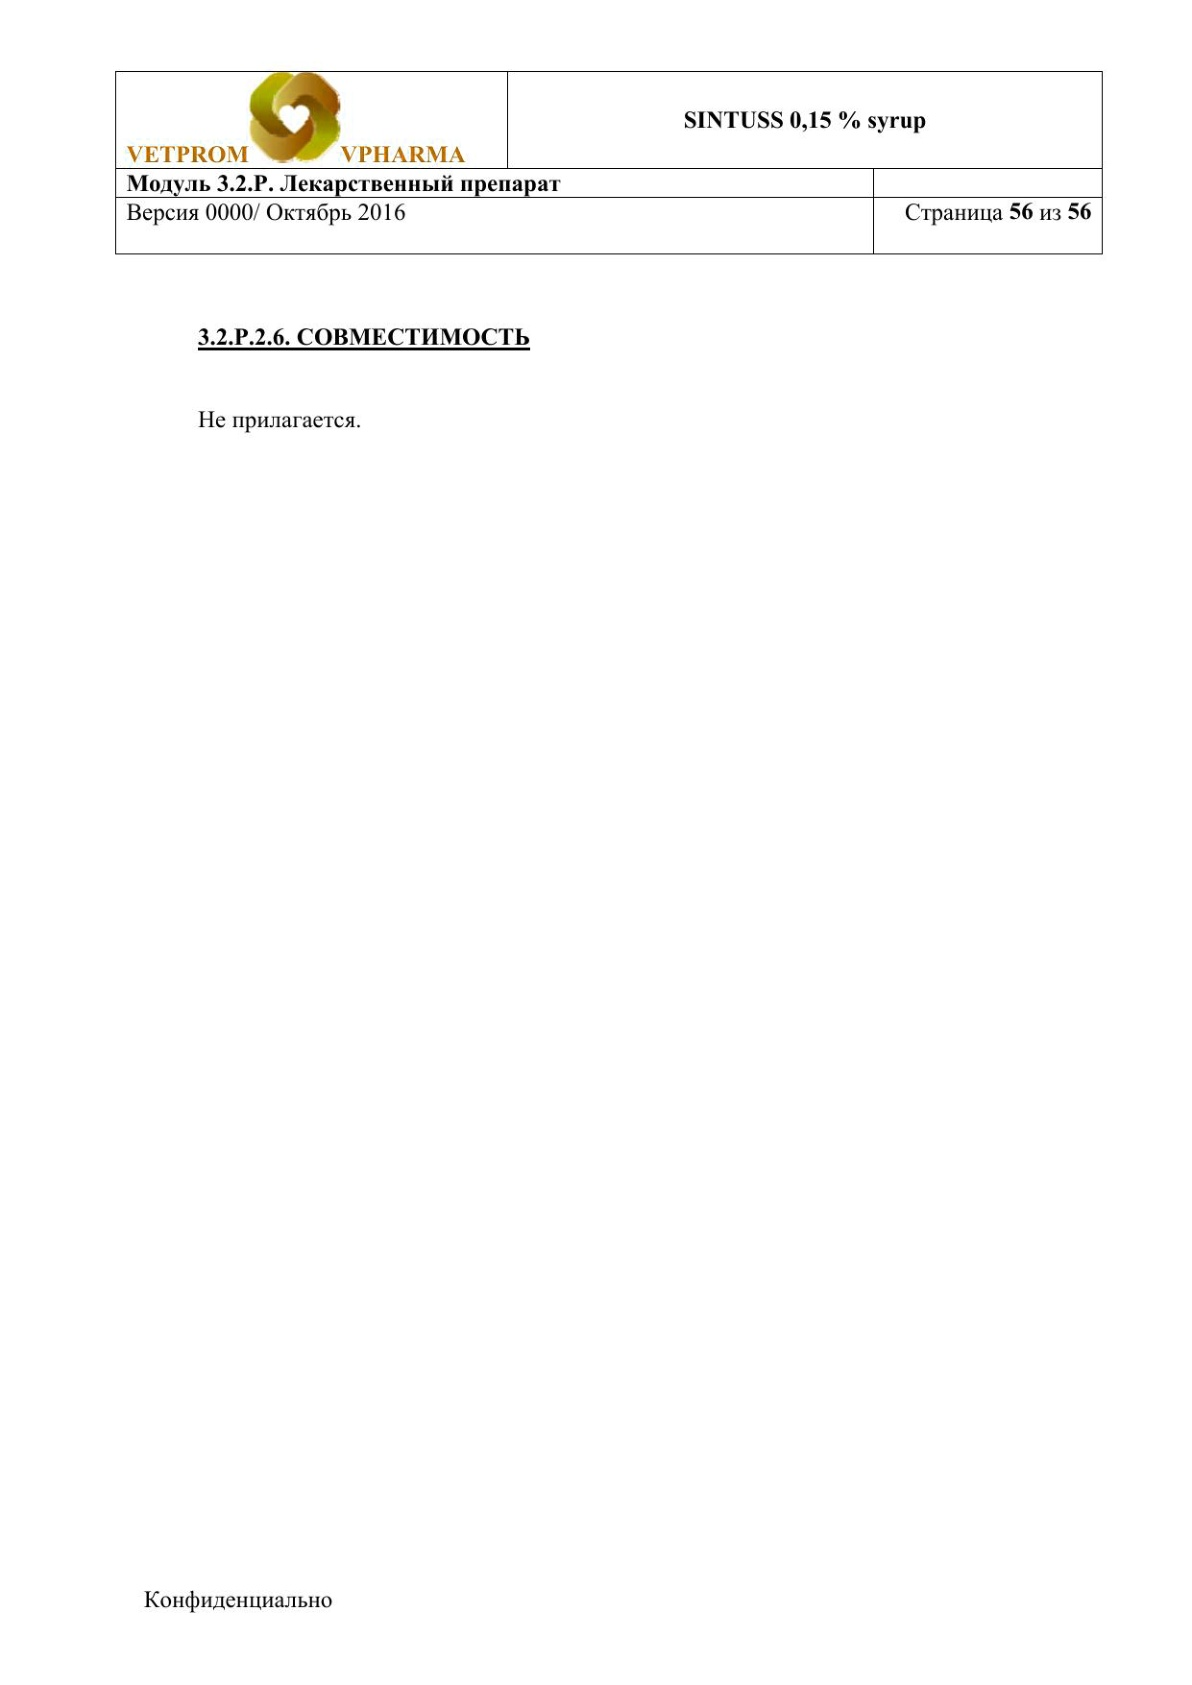merged_cells: (114, 71, 1106, 255)
